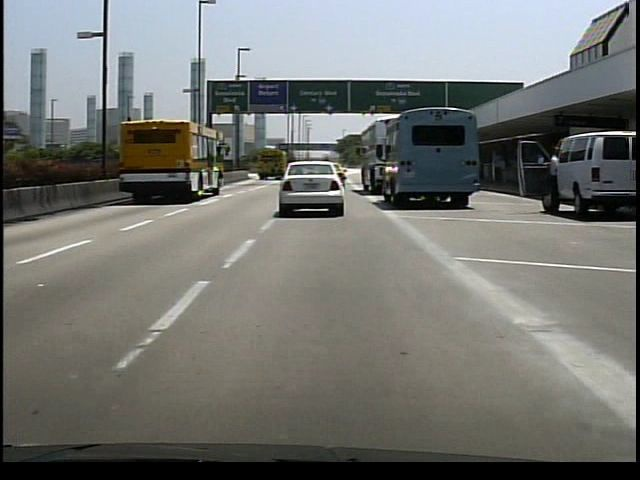person: (545, 139, 563, 221)
